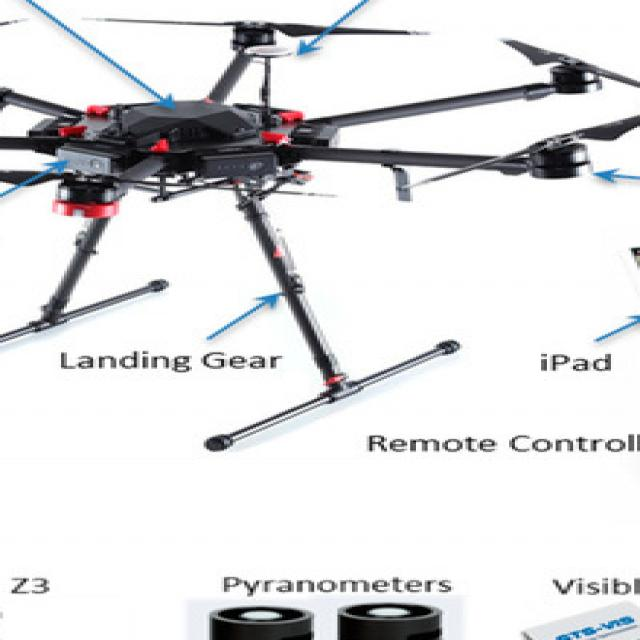drone: (0, 6, 640, 282)
